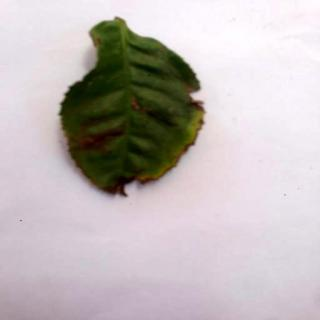Algal Leaf: (63, 18, 206, 201)
